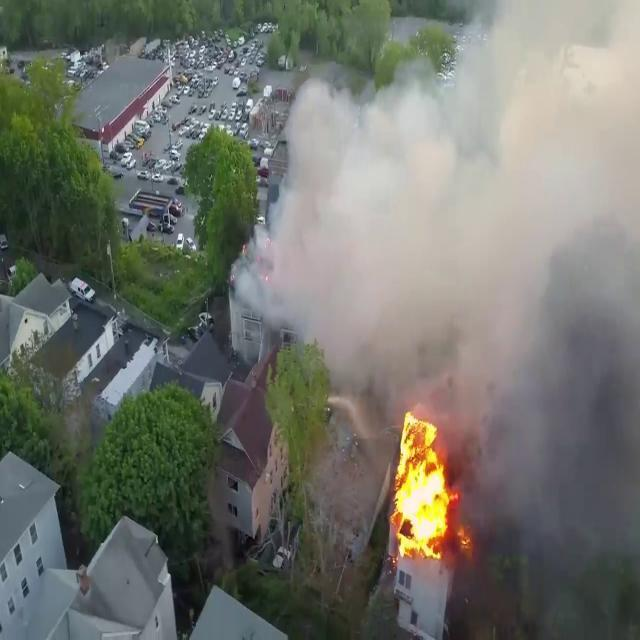Fire: (384, 405, 468, 560)
Smoke: (243, 1, 640, 453)
